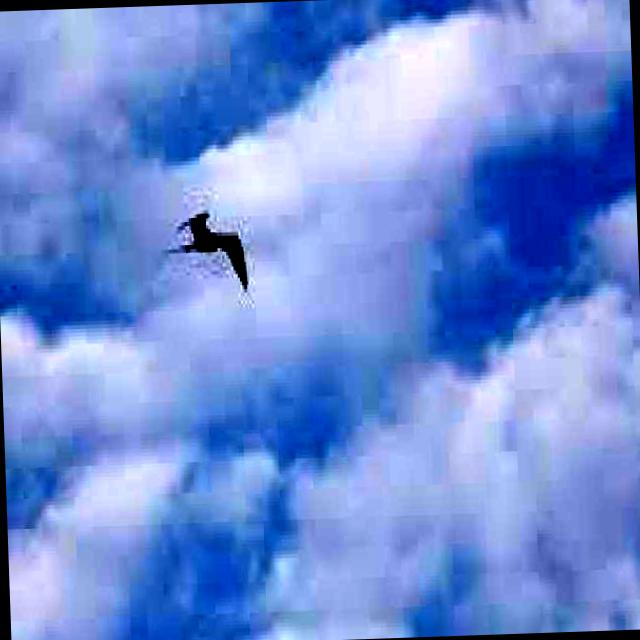bird: (166, 200, 255, 297)
